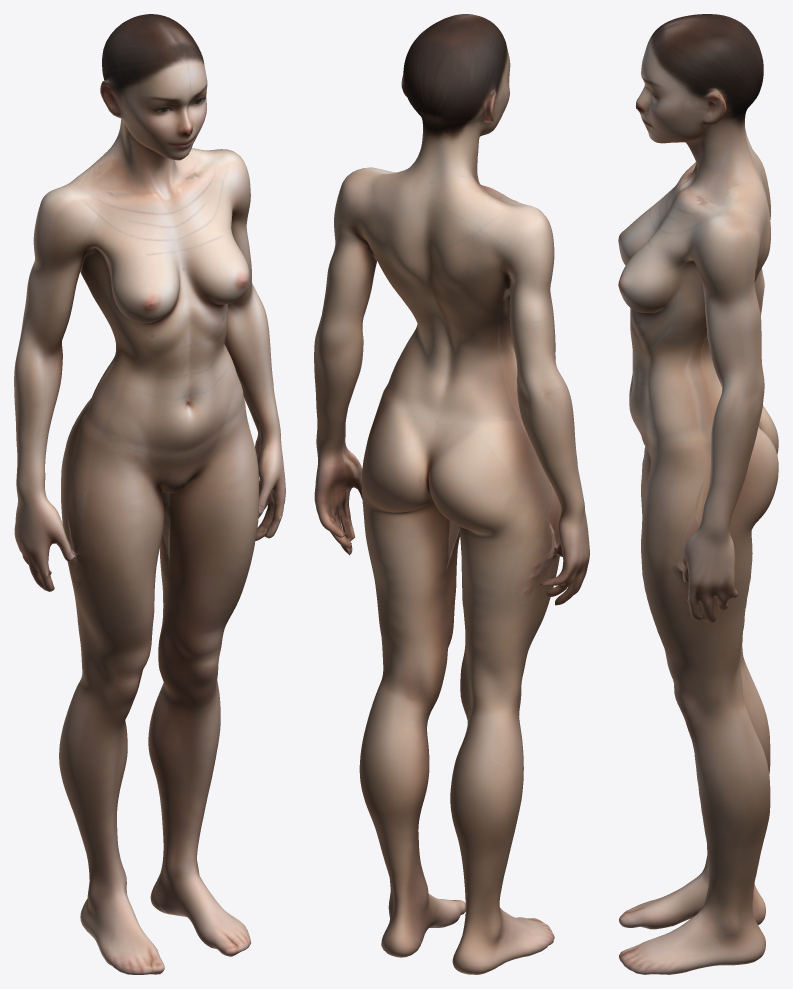
The model's file is female.glb.
3 renders of one model, left to right at view 1: azimuth 30°, elevation 25°; view 2: azimuth 150°, elevation 25°; view 3: azimuth 270°, elevation 25°, orthographic.
Visible parts, largest first — view 1: Object_2; view 2: Object_2; view 3: Object_2.
Part boxes in pixels (x1,y1,x2,y2): Object_2: (14, 14, 285, 974); Object_2: (314, 14, 589, 974); Object_2: (618, 14, 778, 974).
Size of the model in its own units: 0.5949 by 2 by 0.3134.
1 material, 1 textured.
